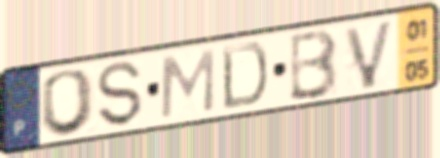B: (287, 26, 341, 104)
D: (219, 39, 270, 113)
M: (157, 46, 217, 121)
O: (38, 66, 98, 139)
S: (95, 59, 145, 129)
V: (342, 16, 398, 92)
